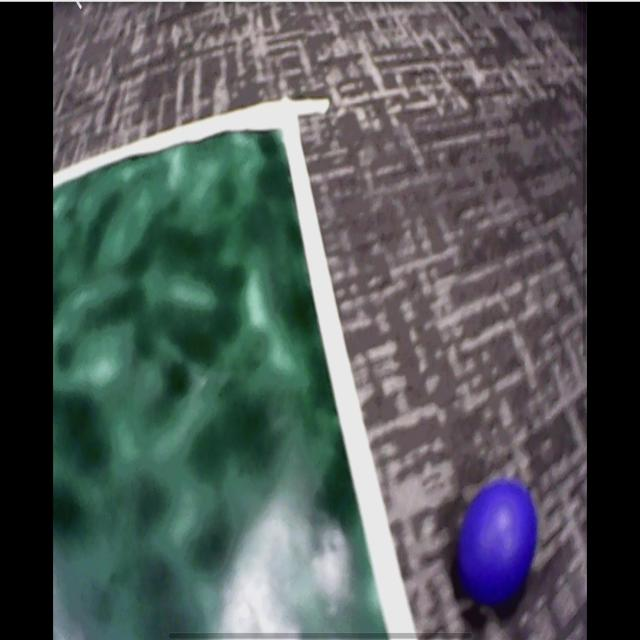ball: (458, 484, 537, 605)
